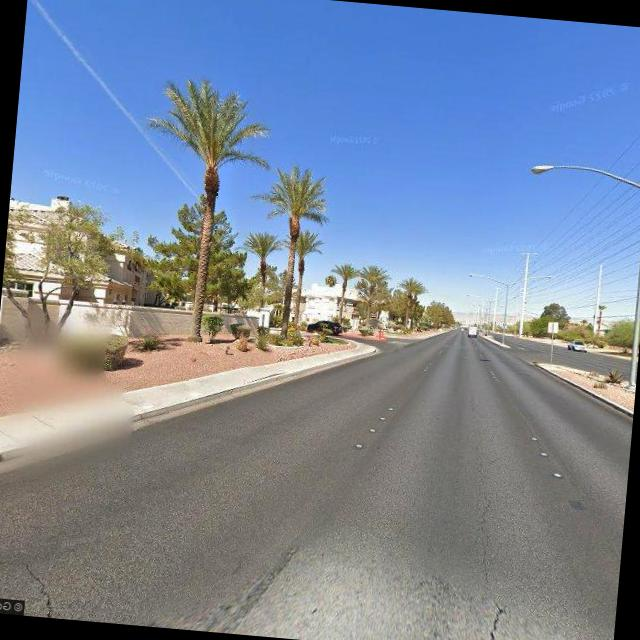crack: (463, 487, 520, 640), (18, 559, 64, 615)
